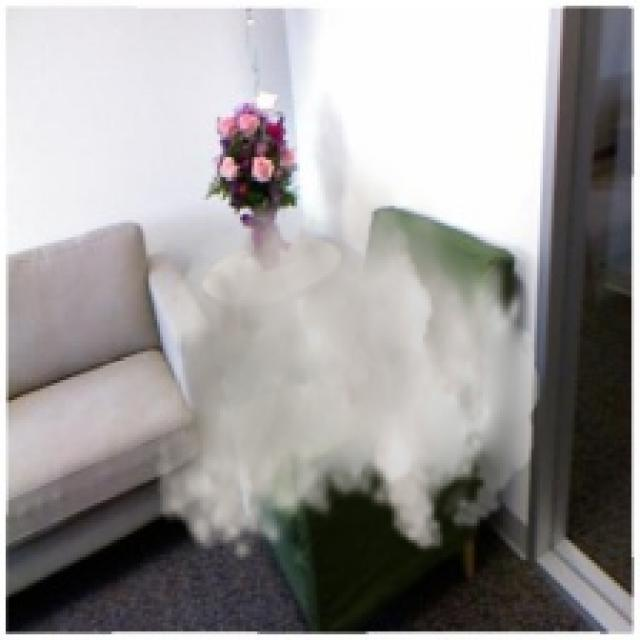Smoke: (155, 146, 540, 563)
